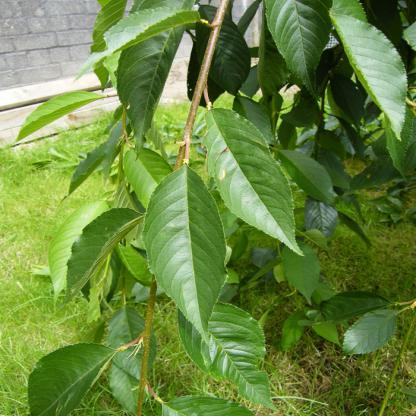Cherry leaf: (139, 151, 239, 359), (194, 99, 313, 261), (71, 4, 217, 83), (53, 204, 150, 312), (18, 342, 131, 416), (299, 293, 404, 368), (8, 89, 109, 148)
